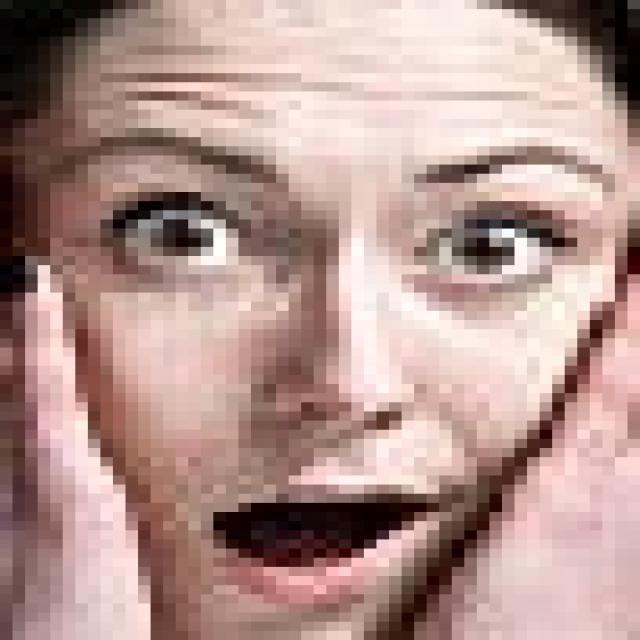Anxiety: (23, 0, 627, 631)
